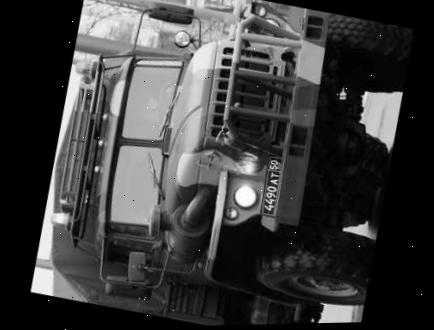truck: (21, 0, 422, 330)
